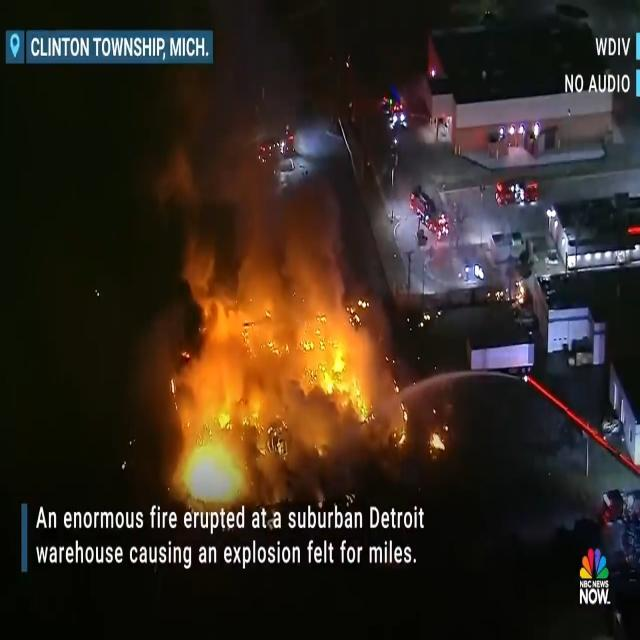fire: (162, 301, 416, 538)
